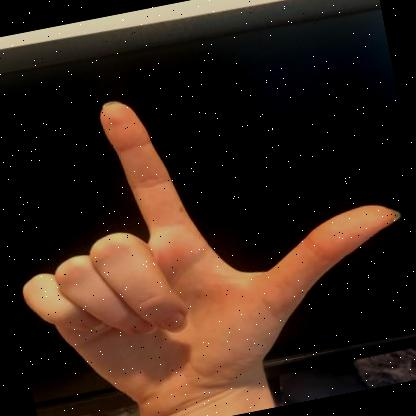L: (22, 100, 400, 406)
